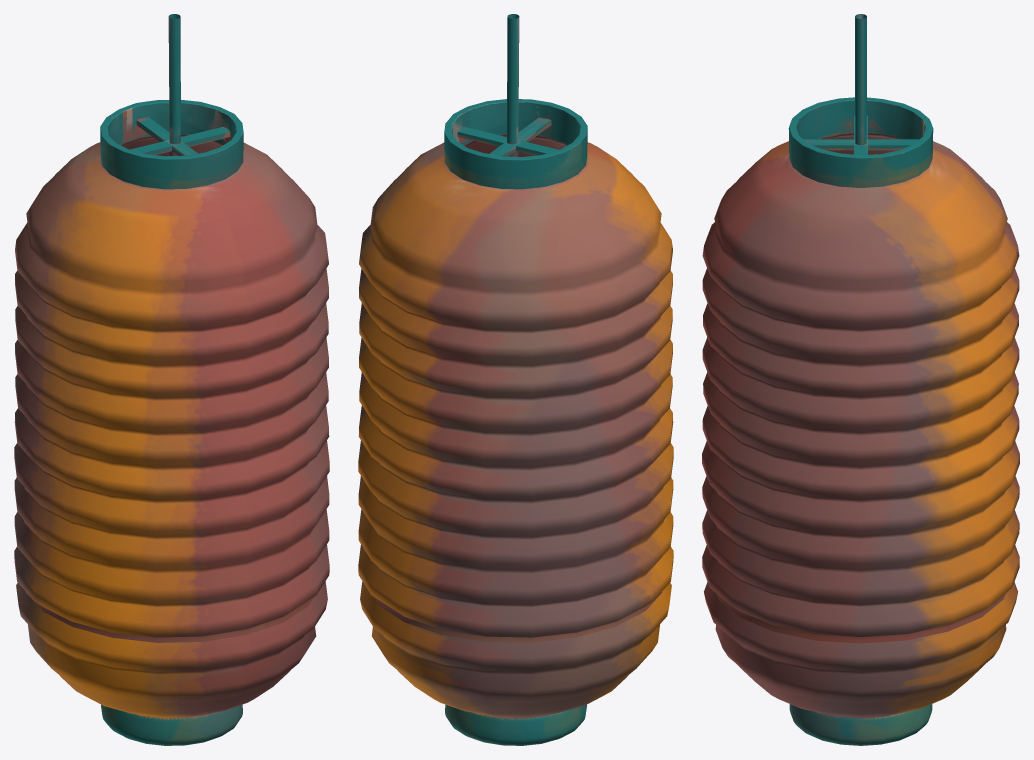
Rendered from LO_lantern.glb.
3 renders of one model, left to right at view 1: azimuth 30°, elevation 25°; view 2: azimuth 150°, elevation 25°; view 3: azimuth 270°, elevation 25°, orthographic.
Visible parts, largest first — view 1: Lantern_v002; view 2: Lantern_v002; view 3: Lantern_v002.
Part boxes in pixels (box(x1,y1,x2,y2)): Lantern_v002: box(14, 14, 329, 745); Lantern_v002: box(358, 14, 673, 745); Lantern_v002: box(702, 14, 1019, 745).
Size of the model in its own units: 0.1611 by 0.3938 by 0.1611.
Materials: 1 (1 with a texture image).
